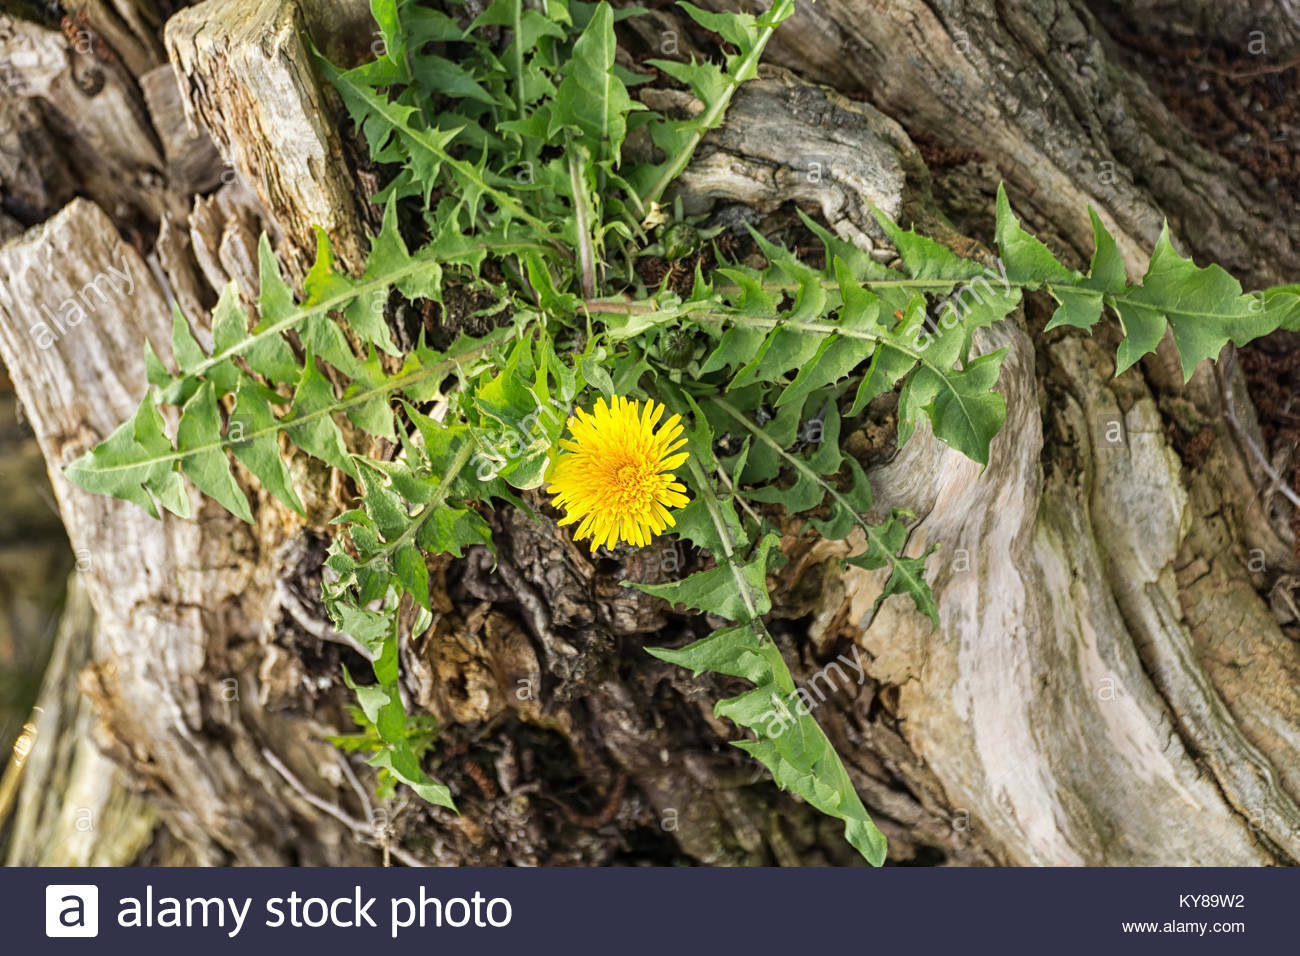dandelion: (550, 390, 697, 576)
